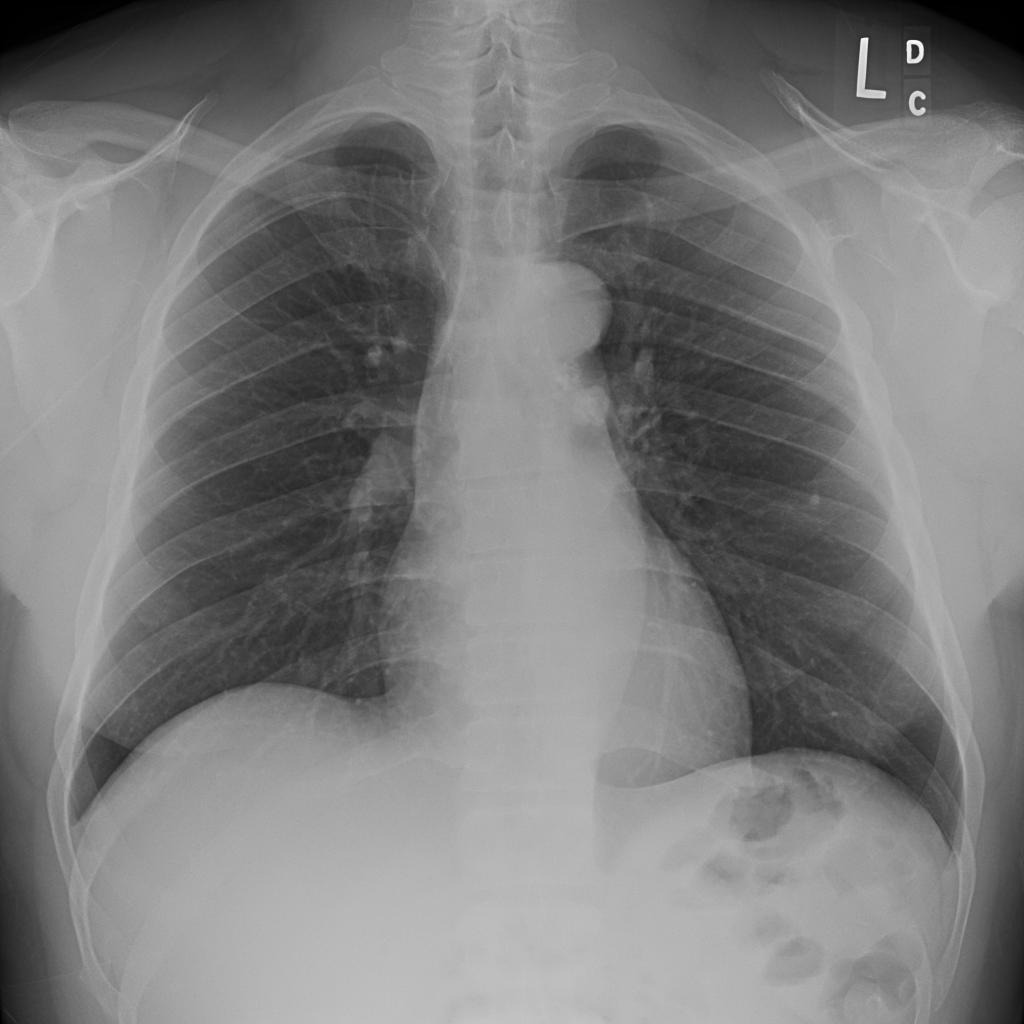Nodule: (167, 240, 196, 266), (174, 197, 203, 222)
